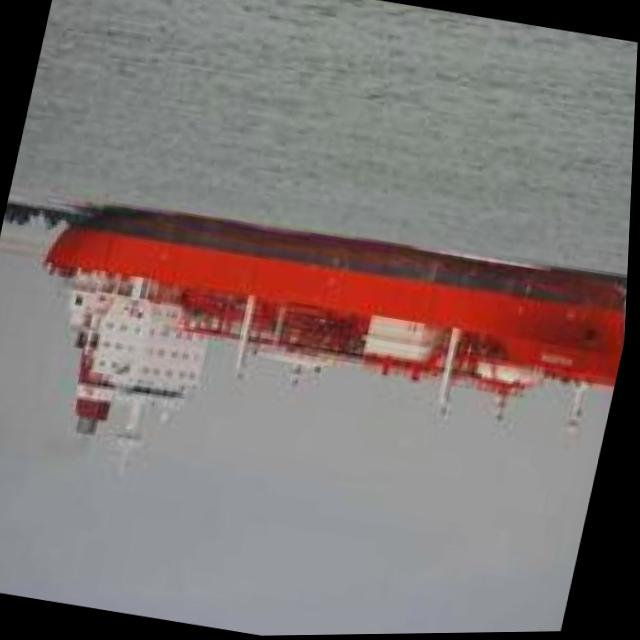ship2: (47, 205, 630, 451)
